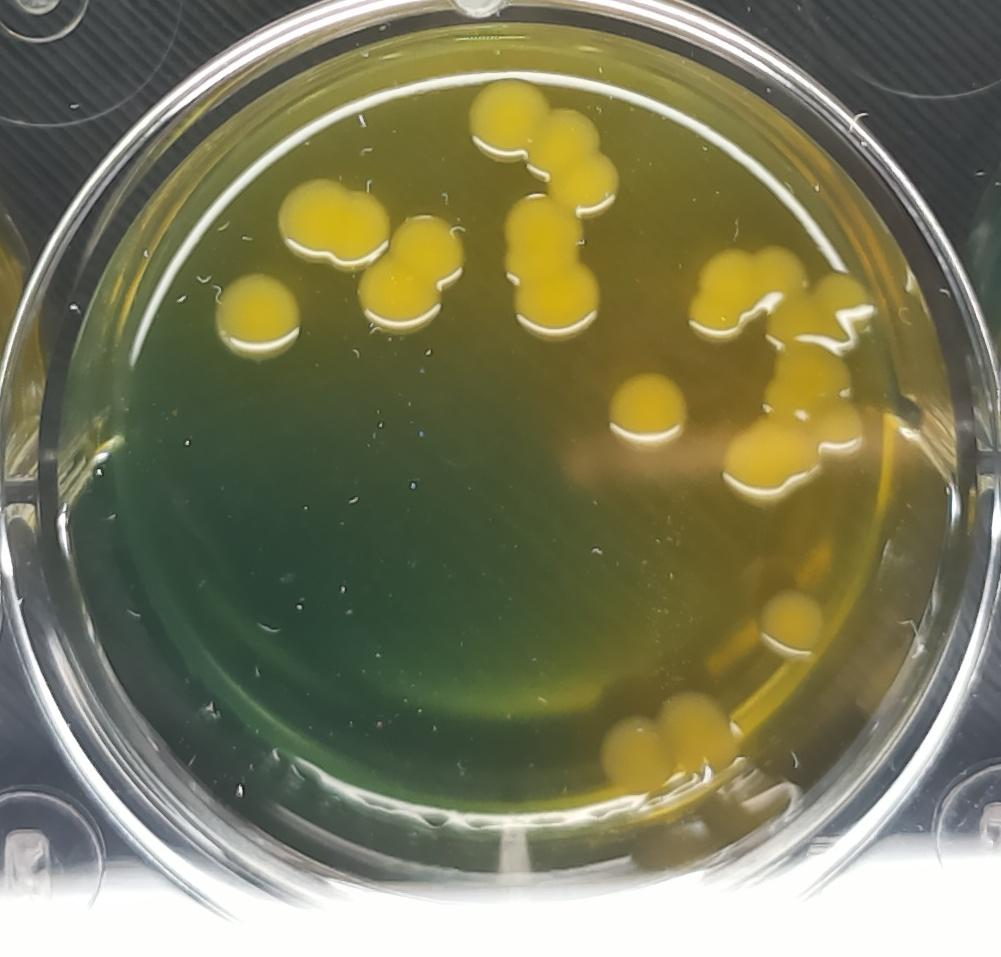vangil: (470, 70, 614, 214), (494, 182, 603, 351), (754, 334, 866, 454), (364, 206, 464, 337), (202, 258, 313, 371), (284, 164, 396, 271), (690, 234, 798, 339), (592, 362, 689, 459), (712, 418, 819, 502), (771, 264, 862, 359), (596, 706, 671, 807), (658, 678, 735, 776), (750, 580, 827, 669)
